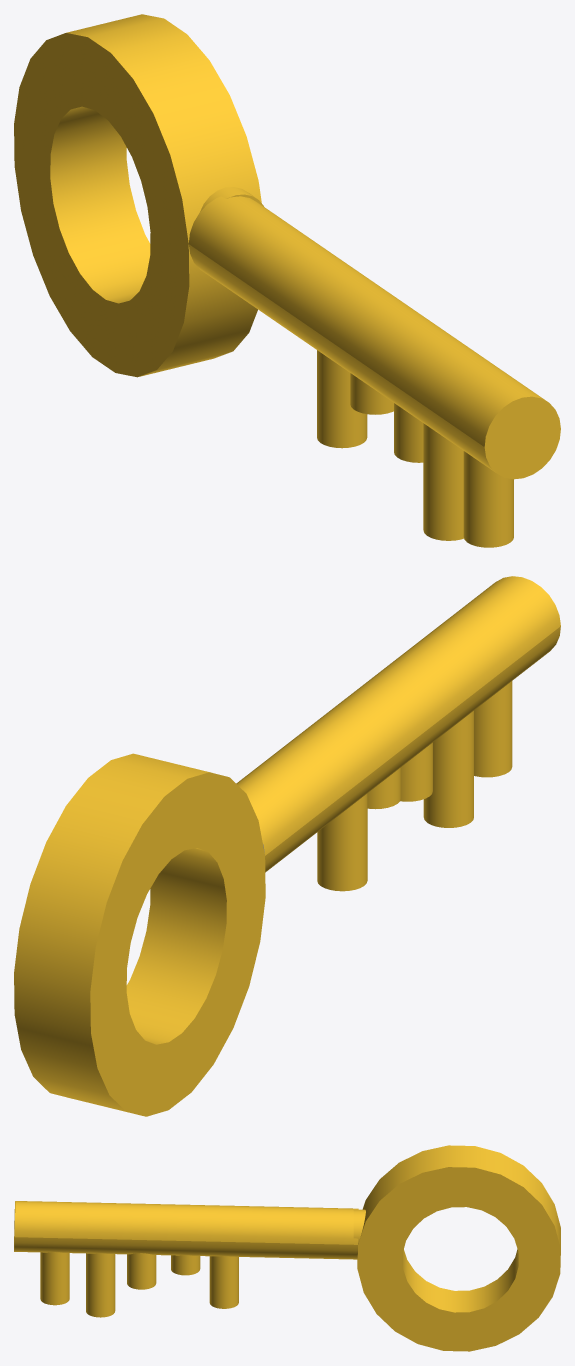
Rendered from GoldenKey.dae.
3 views of the same model, one above another, from view 1: azimuth 30°, elevation 25°; view 2: azimuth 150°, elevation 25°; view 3: azimuth 270°, elevation 25° (orthographic). The views are drawn at different scales.
Visible parts, largest first — view 1: SketchUp (×8); view 2: SketchUp (×8); view 3: SketchUp (×9).
Boxes of the visible parts, box(x1,y1,x2,y2) form: SketchUp (×8): box(14, 14, 560, 547); SketchUp (×8): box(14, 576, 560, 1116); SketchUp (×9): box(14, 1145, 560, 1351).
Size of the model in its own units: 0.2756 by 2.95 by 1.1.
